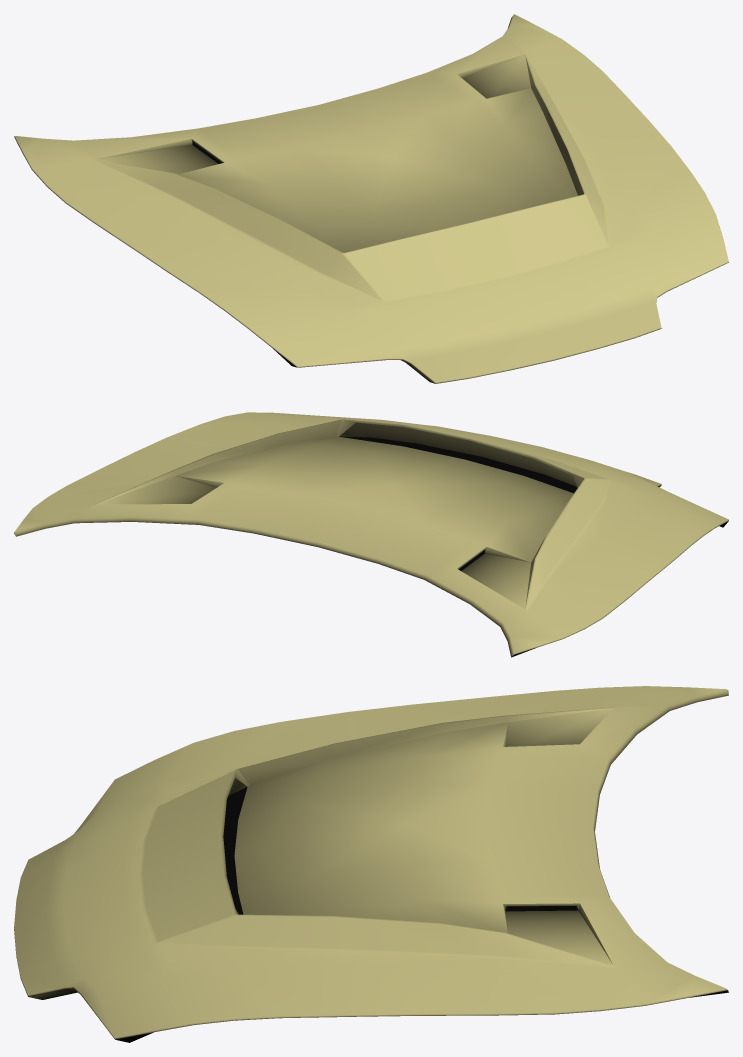
The model's file is Supra_Bonnet_03_Duco.fbx.
The picture shows the model from 3 angles, top to bottom: view 1: azimuth 30°, elevation 25°; view 2: azimuth 150°, elevation 25°; view 3: azimuth 270°, elevation 25°; orthographic projection. The views are drawn at different scales.
Parts seen in each view (by area): view 1: Supra_Bonnet_03_Duco; view 2: Supra_Bonnet_03_Duco; view 3: Supra_Bonnet_03_Duco.
Boxes of the visible parts, left/top/right/bottom form: Supra_Bonnet_03_Duco: left=14, top=14, right=728, bottom=383; Supra_Bonnet_03_Duco: left=14, top=412, right=728, bottom=657; Supra_Bonnet_03_Duco: left=14, top=686, right=728, bottom=1042.
Size of the model in its own units: 157 by 25.04 by 147.
